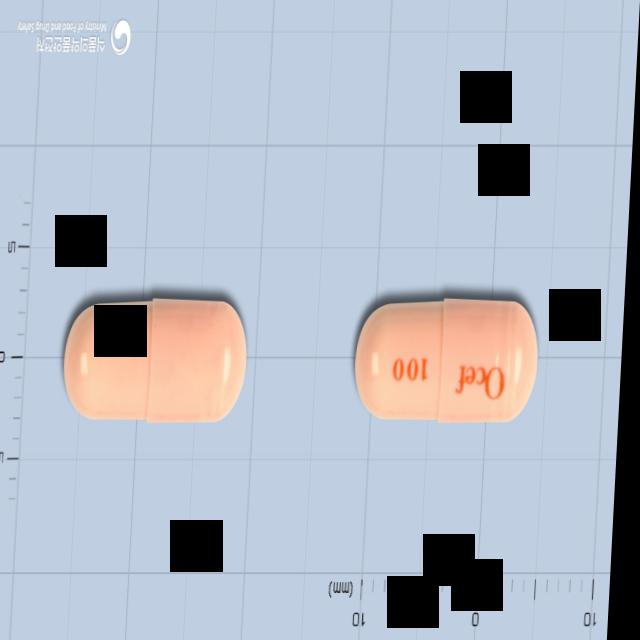Omnicef Cap: (355, 296, 544, 424), (65, 297, 254, 424)
